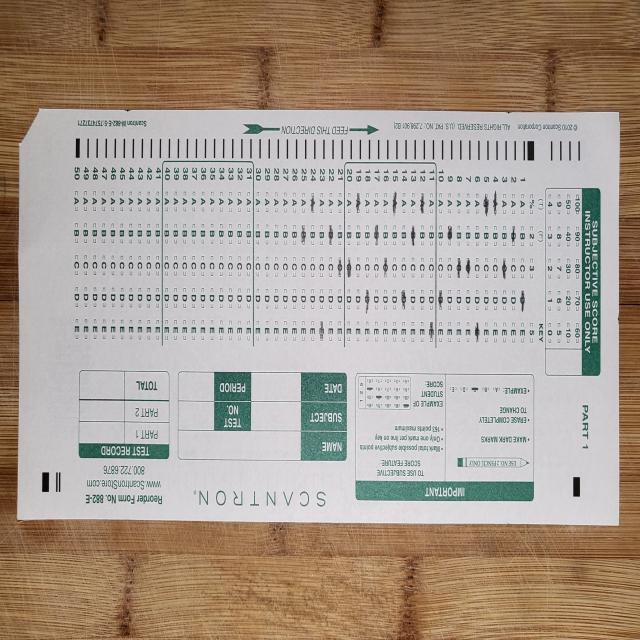scantron: (17, 107, 620, 525)
